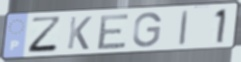1: (212, 8, 229, 45)
E: (95, 12, 132, 52)
G: (131, 11, 164, 48)
I: (177, 8, 191, 47)
K: (66, 15, 94, 51)
Z: (26, 15, 64, 55)
